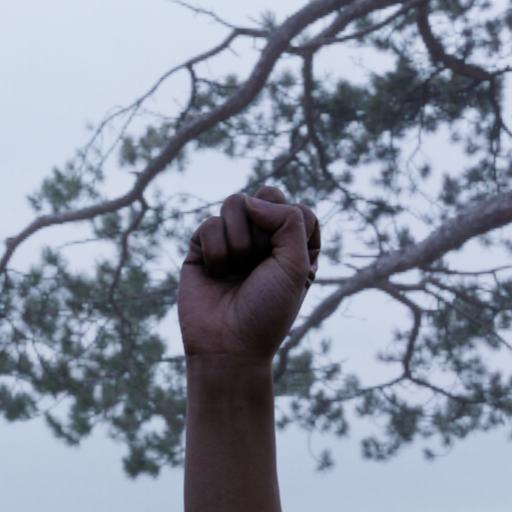S: (170, 179, 333, 512)
